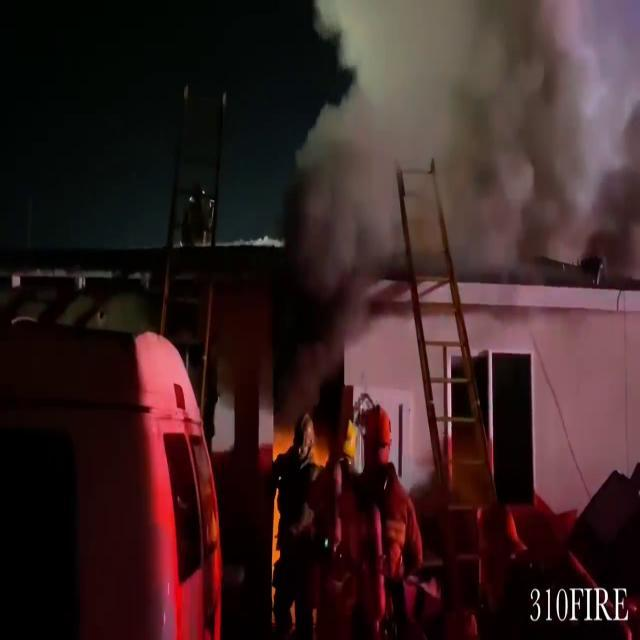Smoke: (287, 1, 638, 280)
